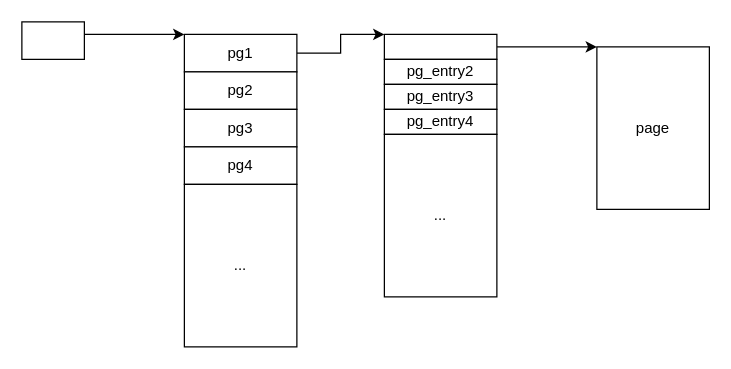
Some shapes in this 731 by 369 pixel diagram are drawn without their labels. The centre of each missing label's shape, as x and y in pixels:
cr3: pixel 52 40
pg_entry1: pixel 440 46
